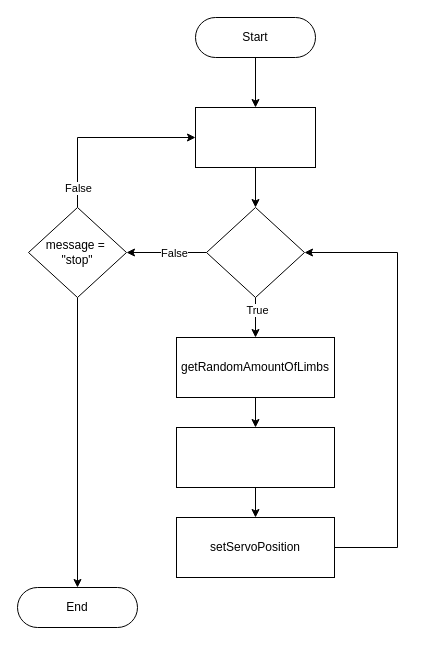
Image size: 423x645. Some labels were removed from this diagram. The box of each missing label's shape, as (x1, y1, x2, y2) in pixels:
getRandomPosition: (176, 426, 334, 488)
Listen on I2C set message: (194, 106, 316, 168)
message = "start": (206, 206, 304, 298)
